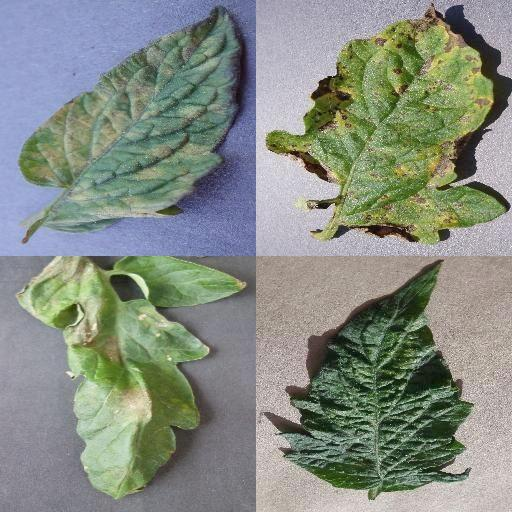Late Blight: (13, 256, 246, 501)
Leaf Mold: (19, 3, 246, 233)
Septoria: (266, 5, 508, 245)
Spider Mites: (276, 260, 472, 490)
